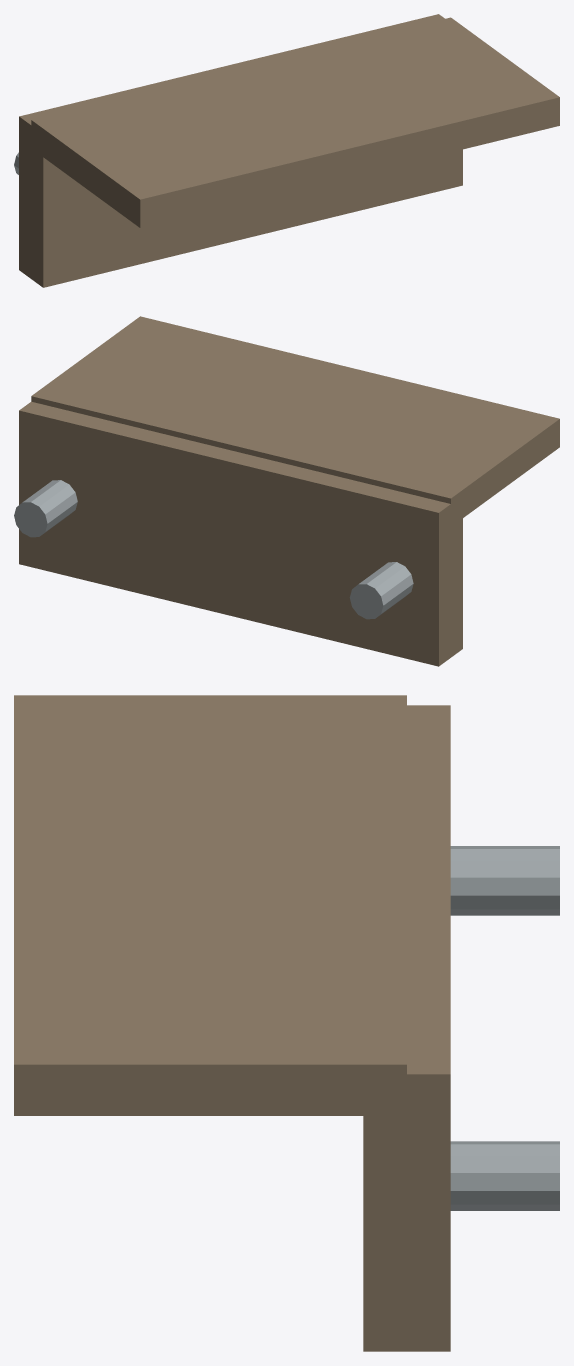
File: bench.glb
3 views of the same model, one above another, from view 1: azimuth 30°, elevation 25°; view 2: azimuth 150°, elevation 25°; view 3: azimuth 270°, elevation 25° (orthographic). The views are drawn at different scales.
Parts seen in each view (by area): view 1: g1, g0; view 2: g0, g1, g3, g2; view 3: g1, g0, g2, g3.
Boxes of the visible parts, x1,y1,x2,y2 form: g1: (31, 17, 559, 227); g0: (19, 14, 462, 287); g0: (19, 401, 462, 666); g1: (31, 316, 559, 523); g3: (14, 480, 77, 537); g2: (349, 562, 413, 619); g1: (14, 695, 406, 1115); g0: (363, 705, 450, 1351); g2: (450, 846, 559, 915); g3: (450, 1141, 559, 1210).
Size of the model in its own units: 2 by 0.725 by 1.25.
